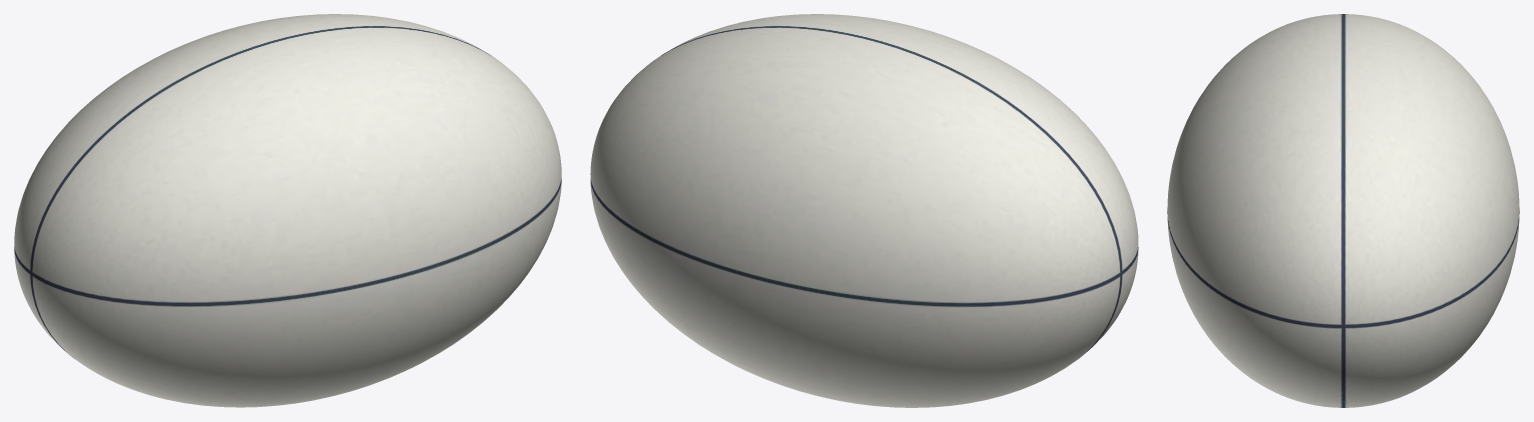
The model's file is ball-rugby-union.glb.
The picture shows the model from 3 angles, left to right: view 1: azimuth 30°, elevation 25°; view 2: azimuth 150°, elevation 25°; view 3: azimuth 270°, elevation 25°; orthographic projection. The views are drawn at different scales.
Visible parts, largest first — view 1: Ball; view 2: Ball; view 3: Ball.
Boxes of the visible parts, x1,y1,x2,y2 form: Ball: (14,14,561,407); Ball: (590,14,1138,407); Ball: (1167,14,1519,407).
Bounding box in the file's own units: 0.295 × 0.19 × 0.19.
2 materials, 2 textured.
